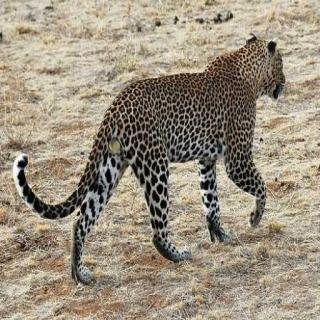Leopard: (17, 25, 290, 274)
